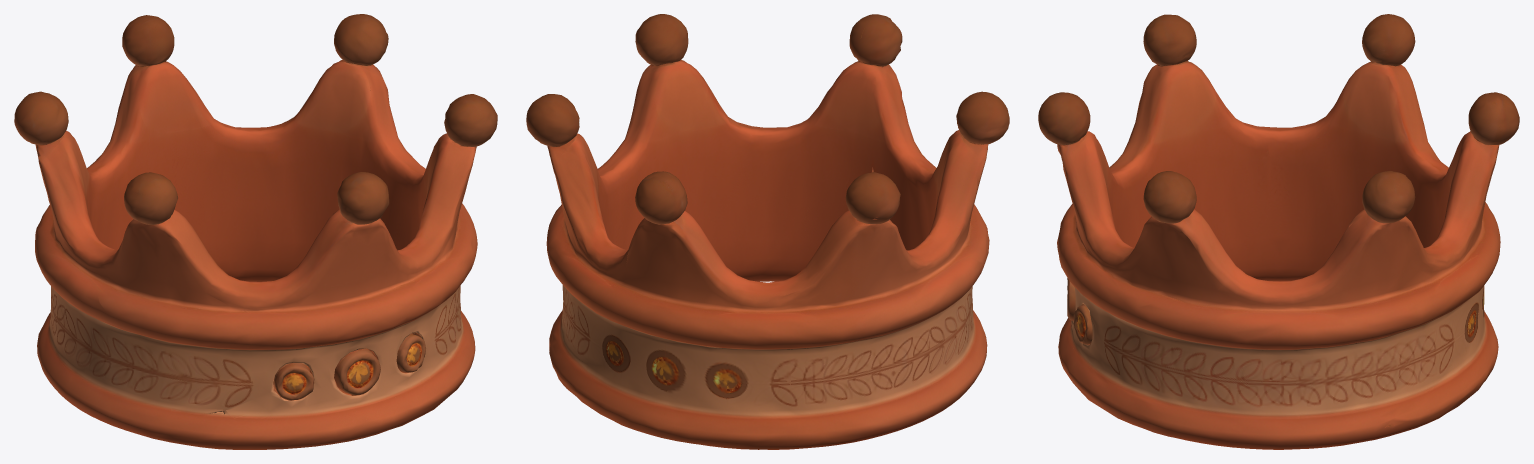
File: crown_bronze.glb
The picture shows the model from 3 angles, left to right: view 1: azimuth 30°, elevation 25°; view 2: azimuth 150°, elevation 25°; view 3: azimuth 270°, elevation 25°; orthographic projection.
Bounding box in the file's own units: 0.8721 × 0.583 × 0.9478.
1 material, 1 textured.
